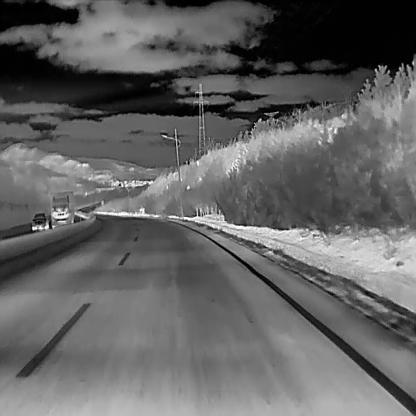car: (49, 190, 73, 228), (31, 212, 48, 229)
